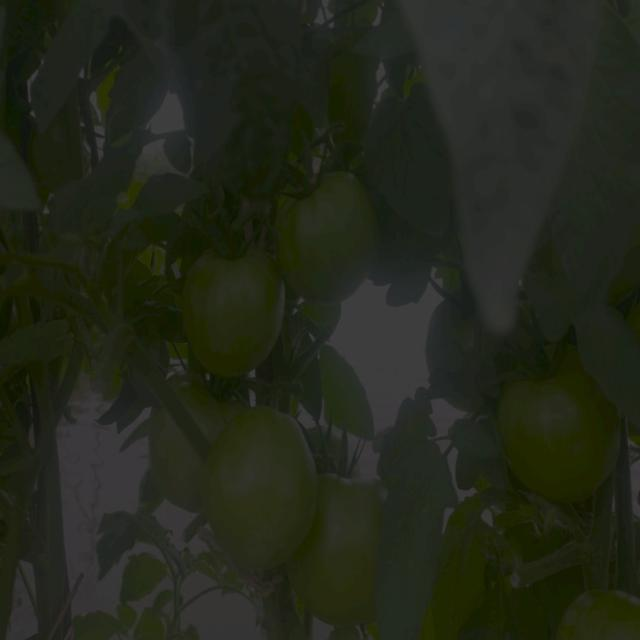tomato: (500, 362, 629, 505), (211, 408, 312, 565), (305, 464, 381, 637), (279, 169, 377, 301), (184, 249, 281, 381), (419, 283, 493, 425), (144, 405, 210, 501), (559, 583, 640, 640)
